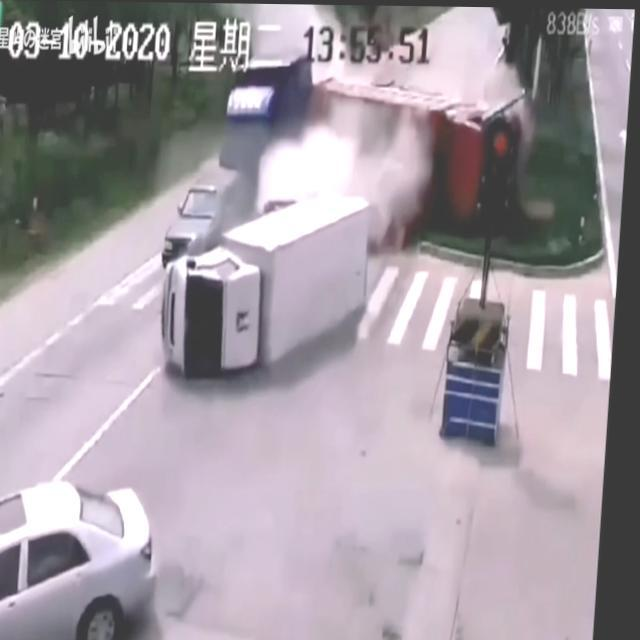multiple_accident: (136, 13, 505, 373)
